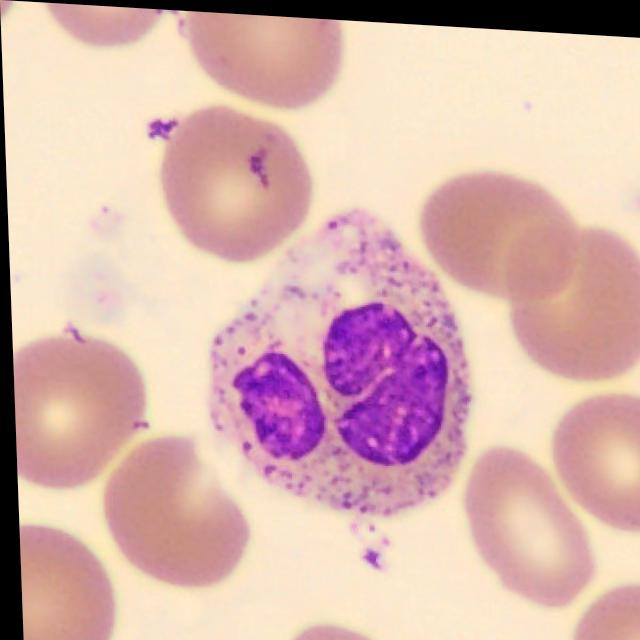Neutrofilo segmentado: (205, 205, 468, 512)
